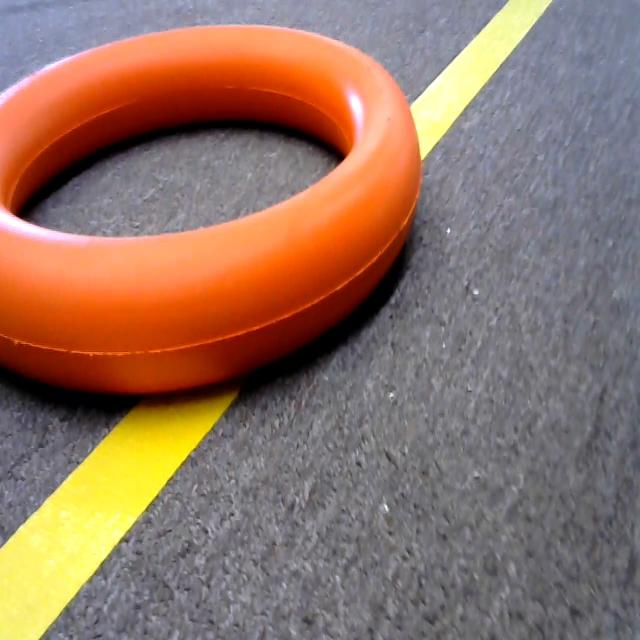note: (0, 0, 426, 408)
